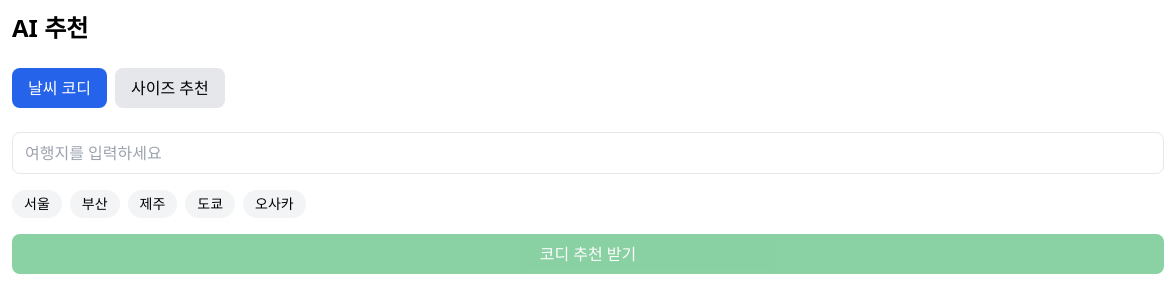
Test: RecommendPage › switching to size tab shows guidance message
The image size is (1176, 291).
Click the button with test id "recommend-size-tab": (170, 88) [115,68,225,108]
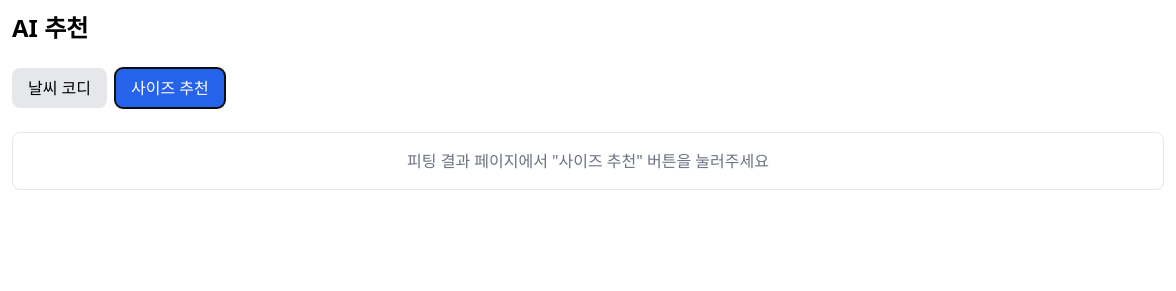
Result: the text "피팅 결과 페이지에서 \"사이즈 추천\" 버튼을 눌러주세요" is shown at [407,150,769,172]
